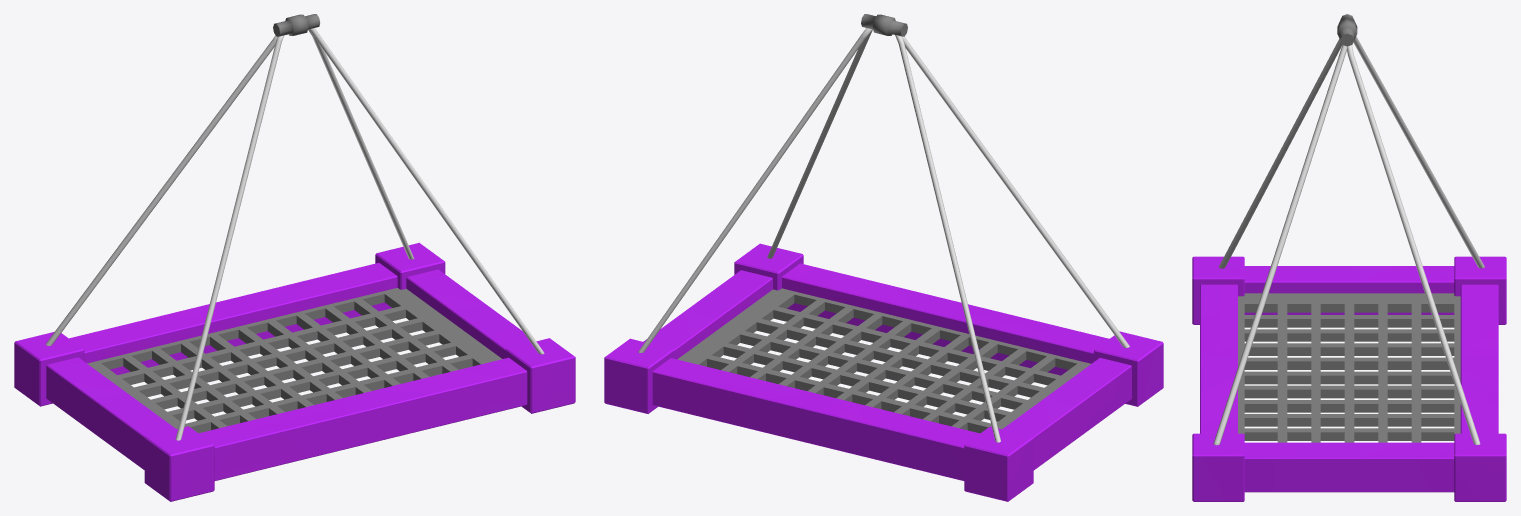
File: HangingPlatformPink.fbx
3 renders of one model, left to right at view 1: azimuth 30°, elevation 25°; view 2: azimuth 150°, elevation 25°; view 3: azimuth 270°, elevation 25°, orthographic.
Visible parts, largest first — view 1: Cube.003, Grate, Cylinder, HangingPlatform; view 2: Cube.003, Grate, Cylinder, HangingPlatform; view 3: Cube.003, Grate, Cylinder, HangingPlatform.
Part boxes in pixels (x1=…): Cube.003: x1=14, y1=242, x2=575, y2=501; Grate: x1=87, y1=288, x2=502, y2=433; Cylinder: x1=45, y1=28, x2=544, y2=440; HangingPlatform: x1=273, y1=14, x2=320, y2=36; Cube.003: x1=604, y1=243, x2=1163, y2=501; Grate: x1=677, y1=288, x2=1090, y2=433; Cylinder: x1=638, y1=28, x2=1129, y2=442; HangingPlatform: x1=861, y1=14, x2=907, y2=36; Cube.003: x1=1192, y1=256, x2=1506, y2=501; Grate: x1=1238, y1=293, x2=1460, y2=442; Cylinder: x1=1213, y1=36, x2=1484, y2=445; HangingPlatform: x1=1337, y1=14, x2=1357, y2=46.
Bounding box in the file's own units: 5.62 × 5.03 × 3.75.
